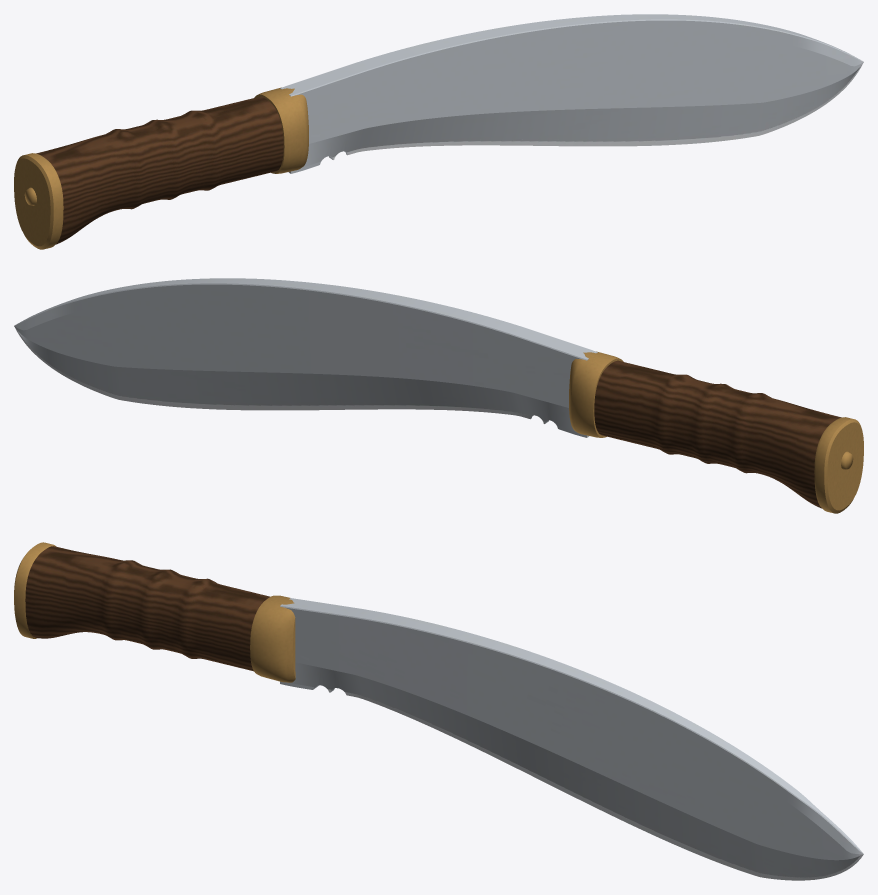
Rendered from kukri.glb.
3 renders of one model, top to bottom at view 1: azimuth 30°, elevation 25°; view 2: azimuth 150°, elevation 25°; view 3: azimuth 330°, elevation 25°, orthographic.
Parts seen in each view (by area): view 1: body; view 2: body; view 3: body.
Part boxes in pixels (x1,y1,x2,y2): body: (14,14,863,249); body: (14,278,863,513); body: (14,542,863,880).
Bounding box in the file's own units: 0.37 × 0.0716 × 0.0301.
Materials: 4 (4 with a texture image).
